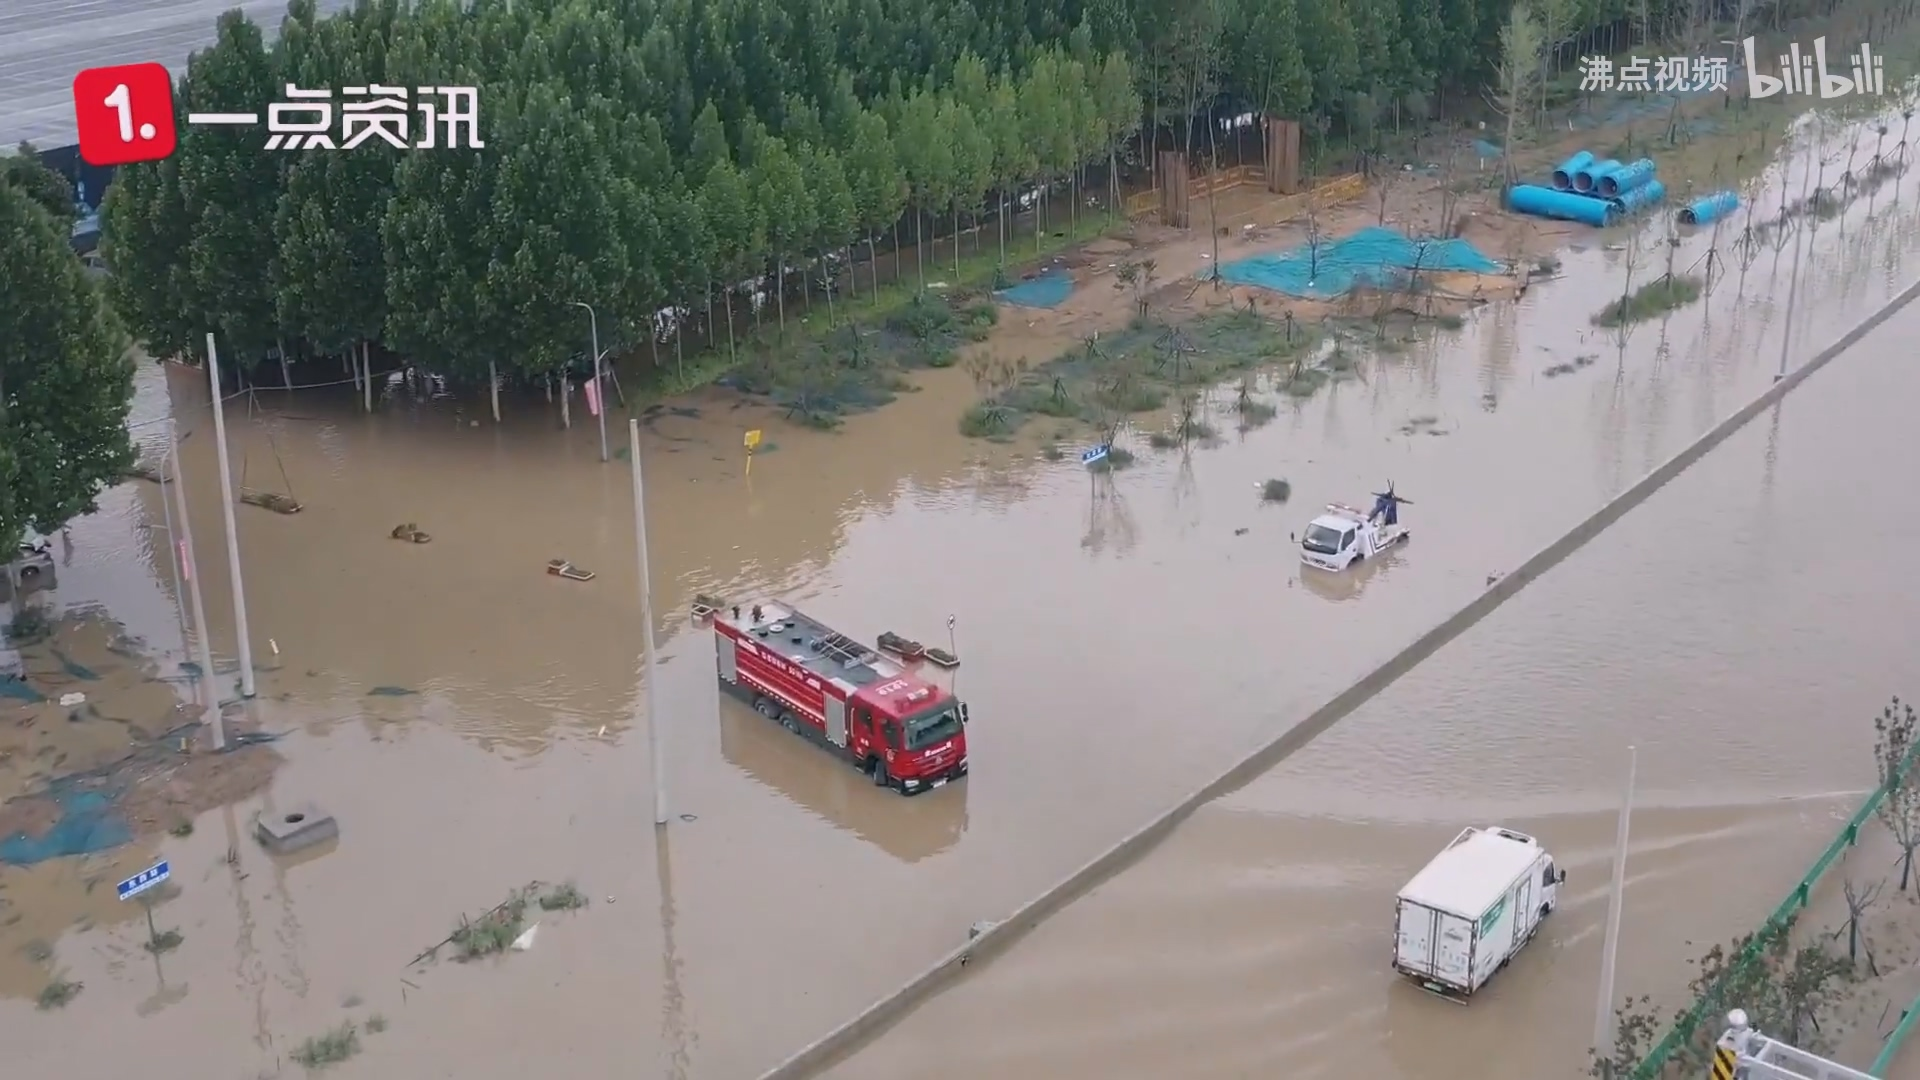puddle: (131, 336, 1676, 1080)
